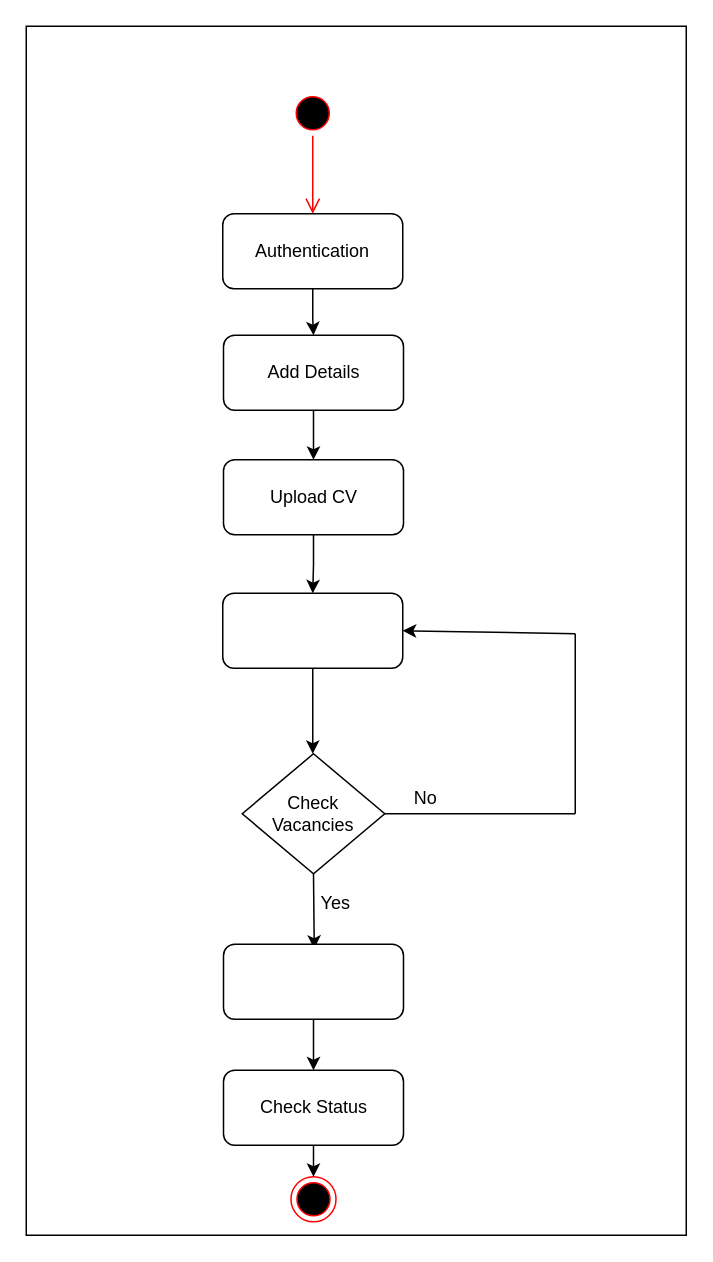
The diagram is 713 pixels wide and 1262 high, and some of its shapes have lost their labels. The shapes that lost their labels are listed below. From the top down, each one's centre as x and y in pixels, then its label:
At [312,630]: "Filter / View Jobs".
At [313,981]: "Apply for the job".
